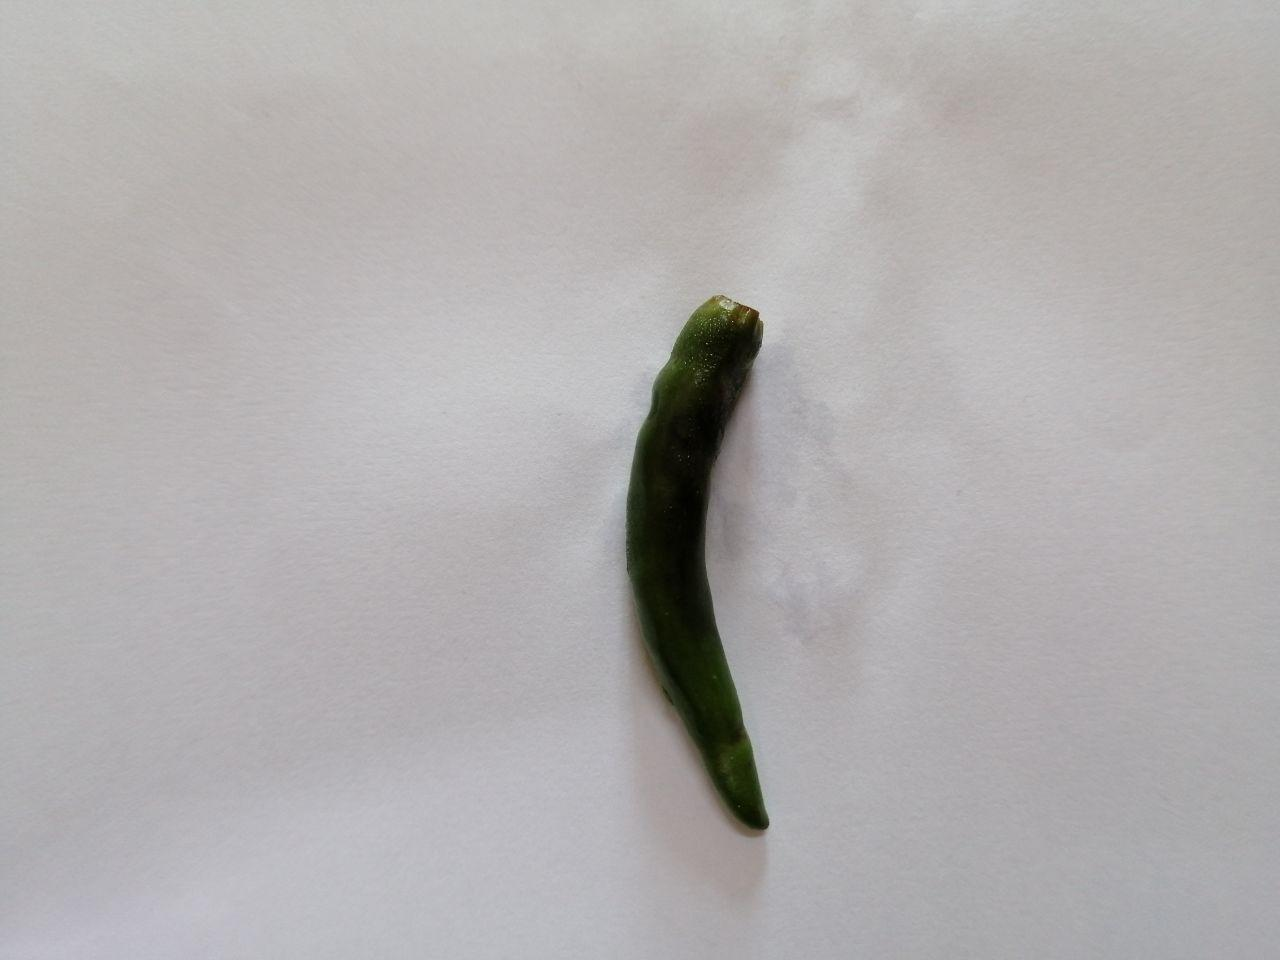lada hijau: (599, 289, 824, 844)
